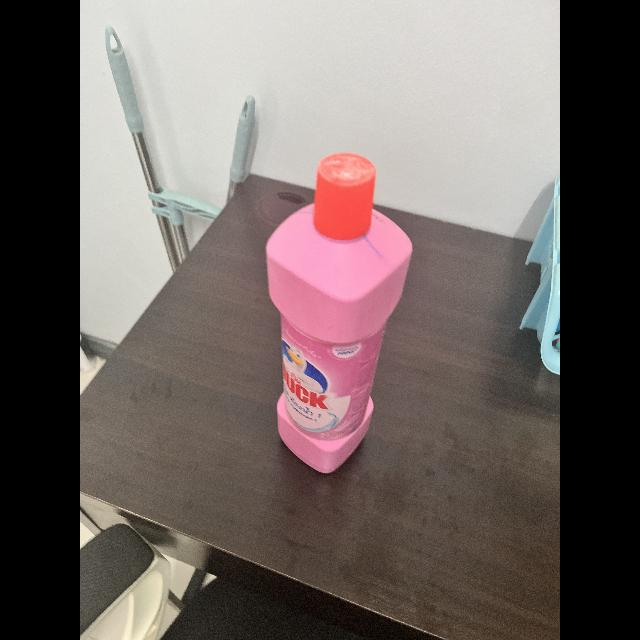chemical_plastic_bottle: (262, 150, 414, 470)
